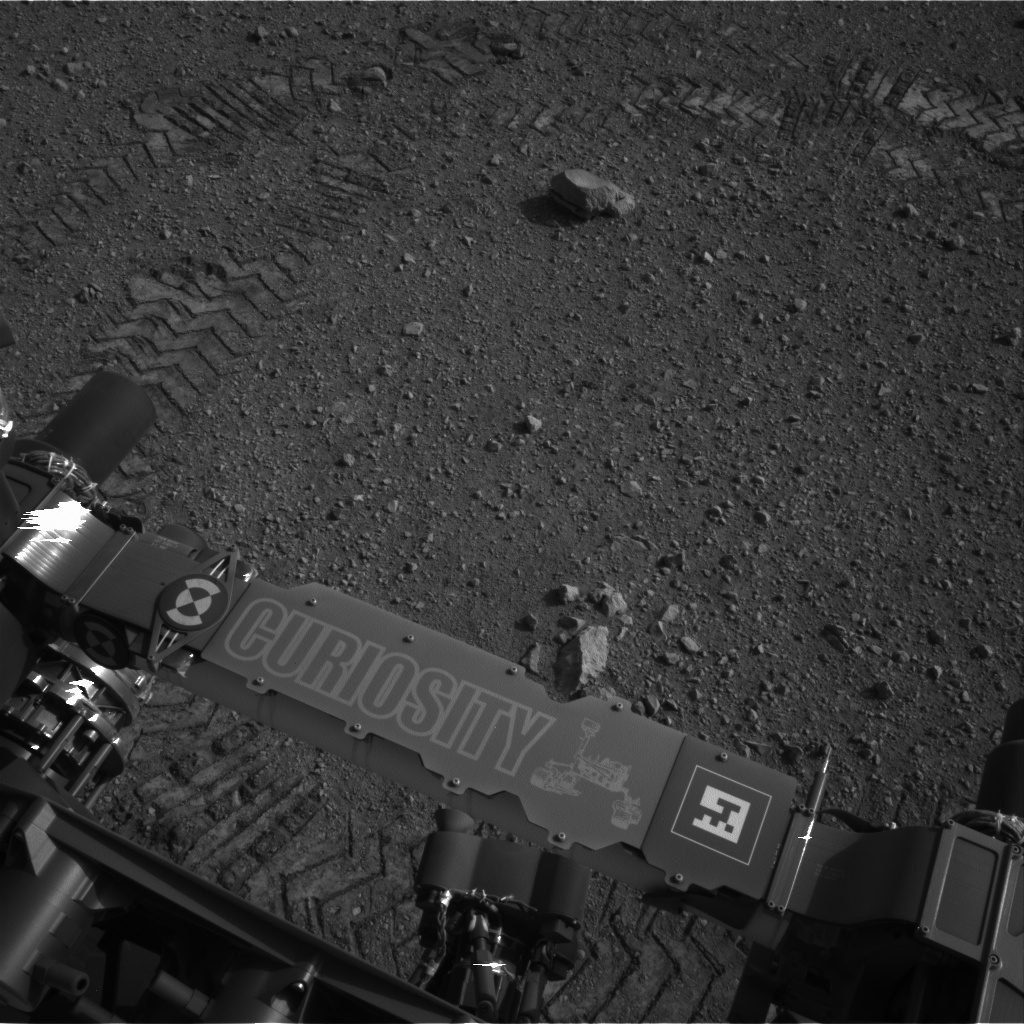soil: (3, 6, 1018, 760)
